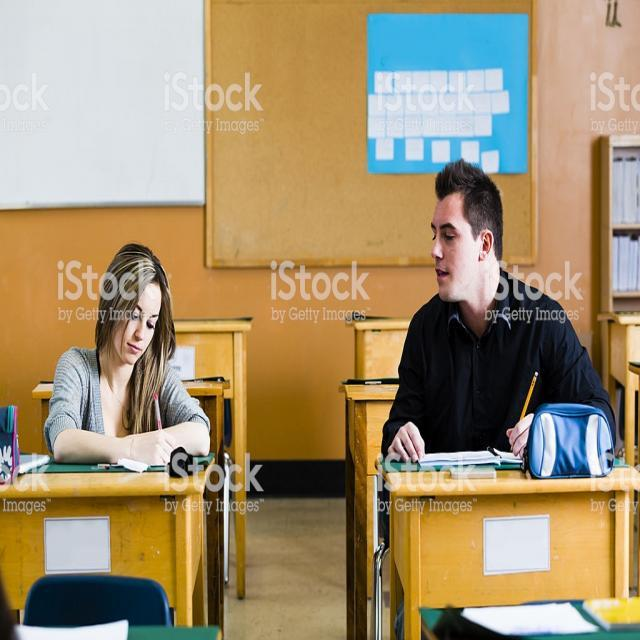cheating: (379, 147, 629, 484)
good: (6, 229, 220, 481)
